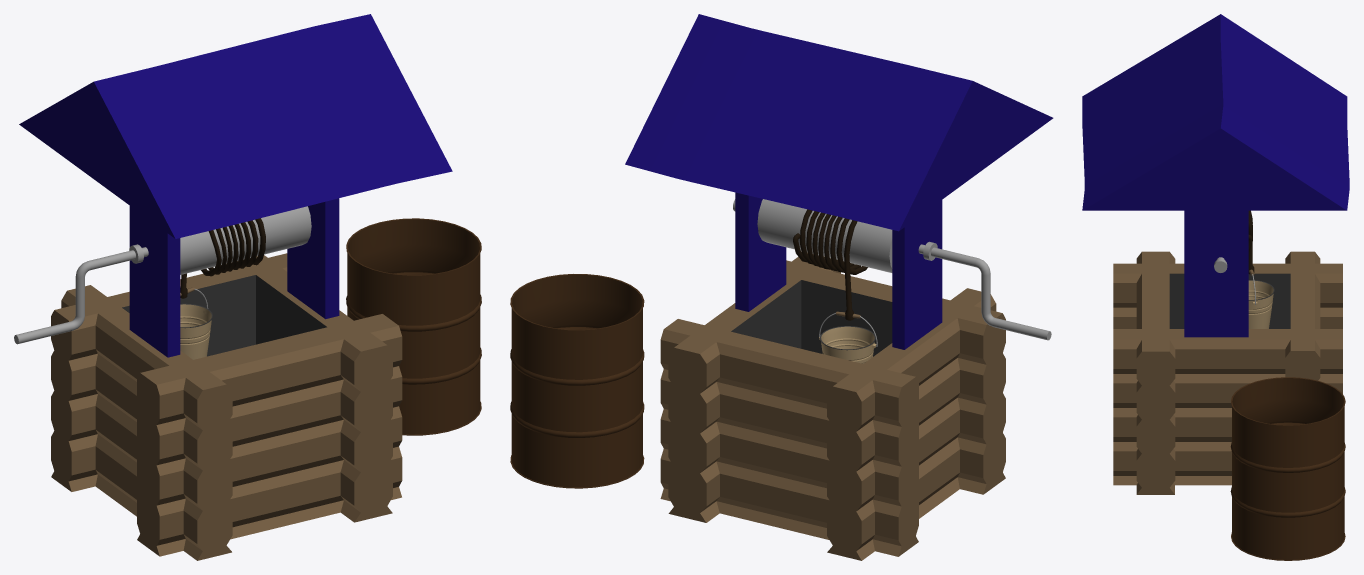
File: Колодец .fbx
3 renders of one model, left to right at view 1: azimuth 30°, elevation 25°; view 2: azimuth 150°, elevation 25°; view 3: azimuth 270°, elevation 25°, orthographic. The views are drawn at different scales.
Visible parts, largest first — view 1: Куб.111, Куб.210, Окружность.042, Цилиндр.109, Куб.214, Окружность.041; view 2: Куб.111, Куб.210, Окружность.042, Цилиндр.109, Куб.214, Окружность.041; view 3: Куб.210, Куб.111, Окружность.042, Окружность.041.
Part boxes in pixels (x1,y1,x2,y2): Куб.111: [51, 253, 402, 560]; Куб.210: [19, 14, 452, 357]; Окружность.042: [346, 218, 481, 435]; Цилиндр.109: [14, 206, 311, 344]; Куб.214: [180, 218, 265, 298]; Окружность.041: [180, 303, 212, 359]; Куб.111: [660, 252, 1005, 560]; Куб.210: [625, 14, 1053, 349]; Окружность.042: [510, 274, 644, 488]; Цилиндр.109: [733, 199, 1051, 340]; Куб.214: [793, 209, 867, 320]; Окружность.041: [819, 326, 876, 363]; Куб.210: [1082, 14, 1349, 337]; Куб.111: [1113, 251, 1342, 494]; Окружность.042: [1230, 377, 1345, 560]; Окружность.041: [1248, 280, 1274, 328].
Size of the model in its own units: 147 by 125 by 81.17.
